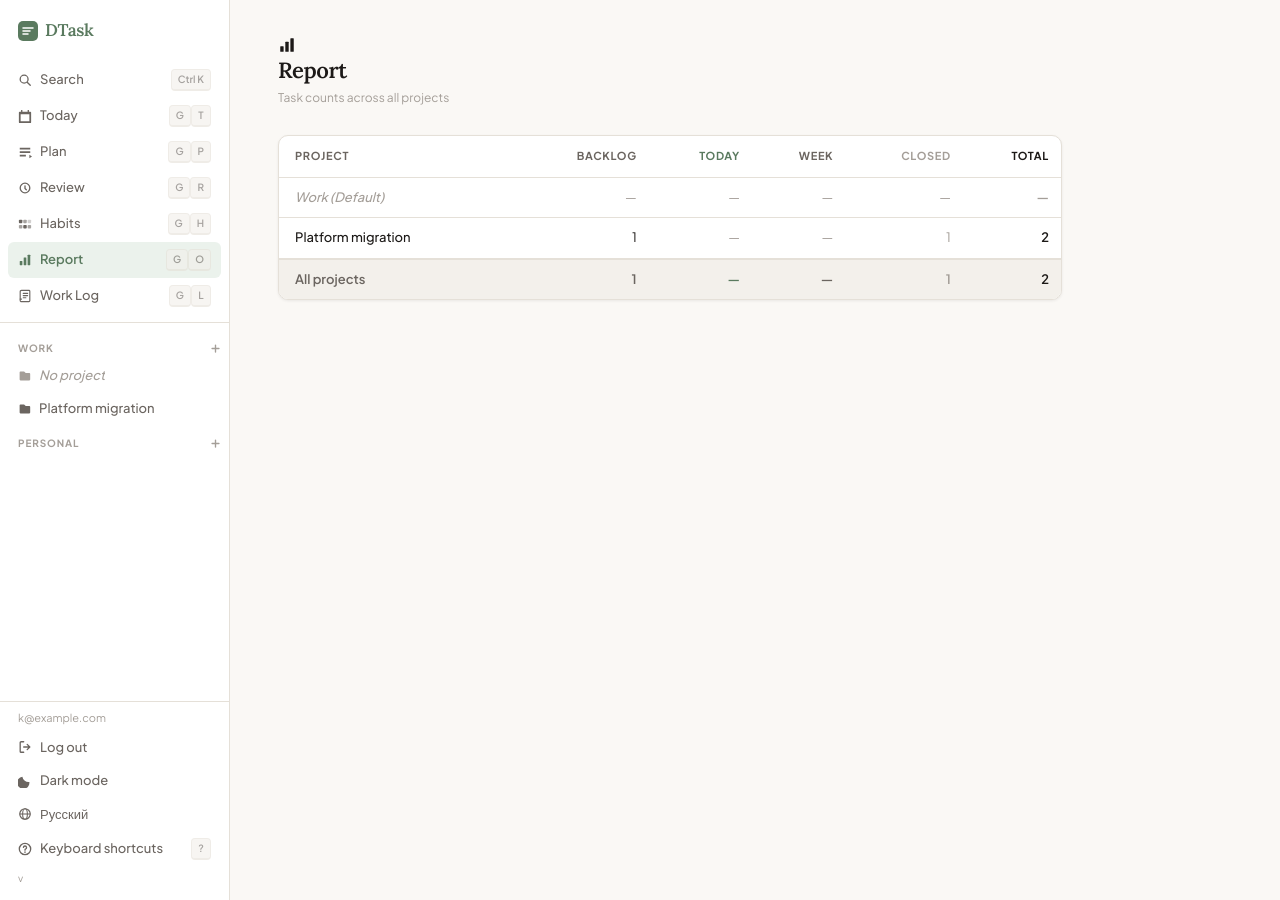
Test: CommandPalette › routes an ambiguous create through Today rather than guessing a project
The width and height of the screenshot is (1280, 900).
Type keys "{Control>}k{/Control}"
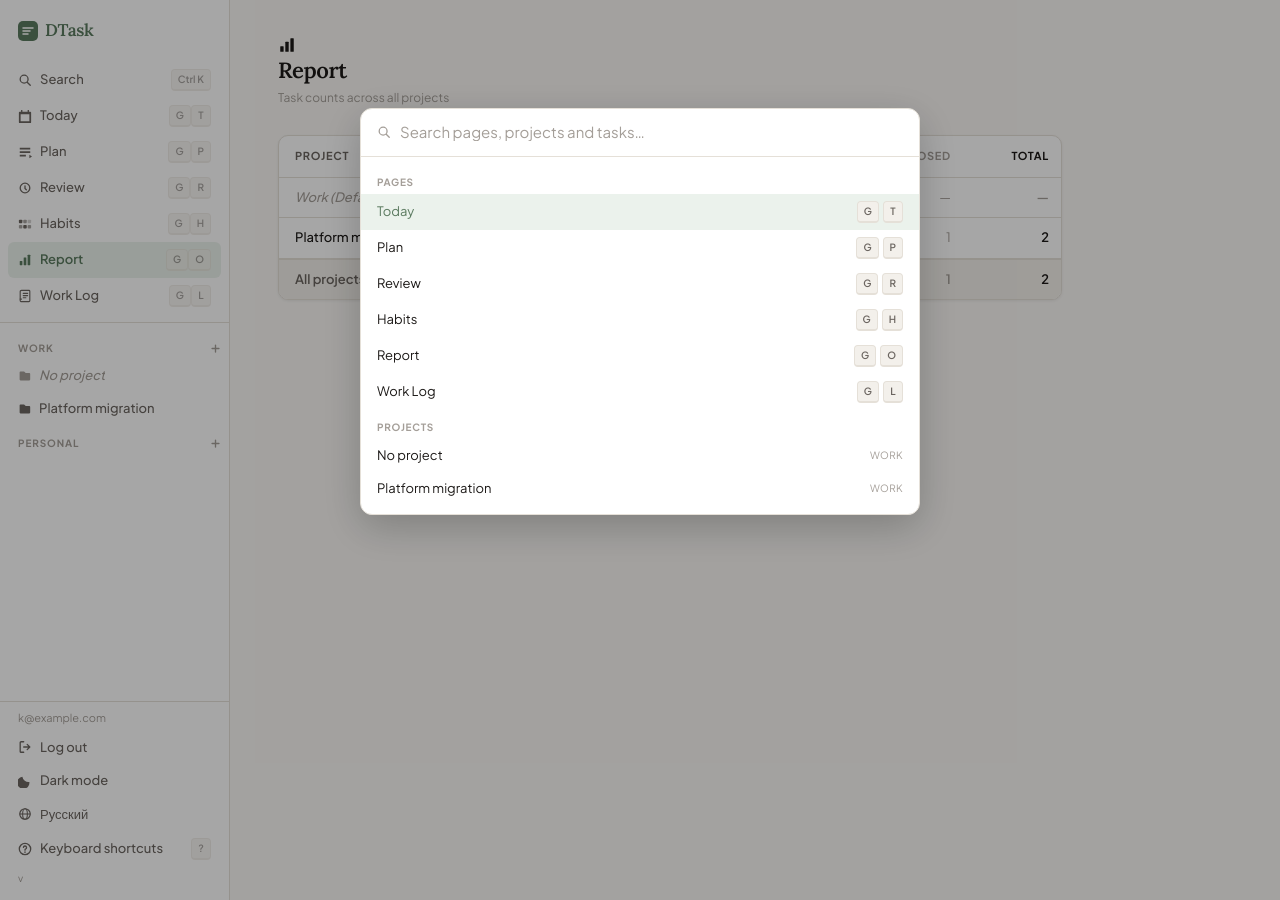
Type "Something unfiled" into the dropdown.
click(652, 132); type("Something unfiled")  # box 400,121 -> 903,144
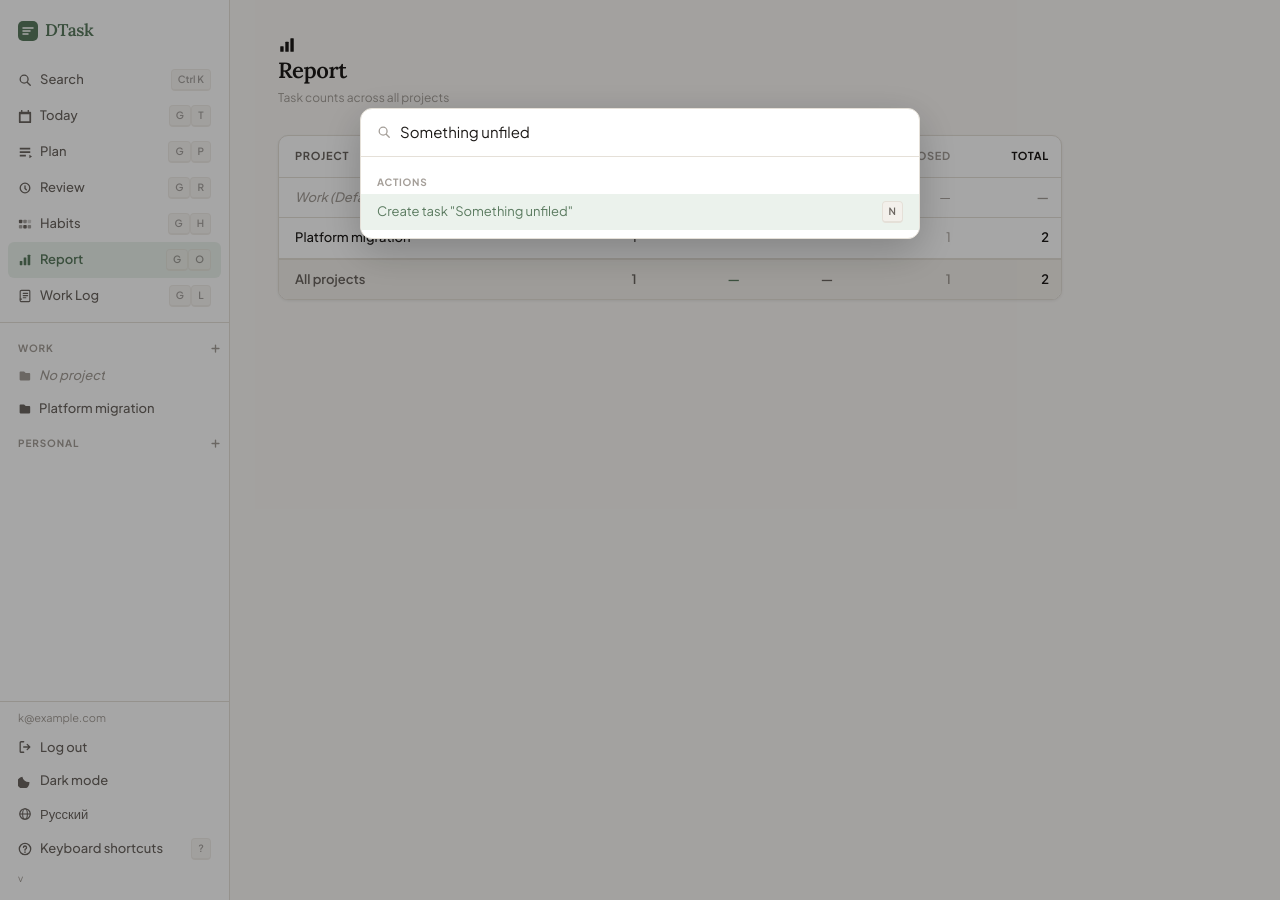
Click the text "Create task \"Something unfiled\"".
click(475, 211)  # box 377,203 -> 573,219
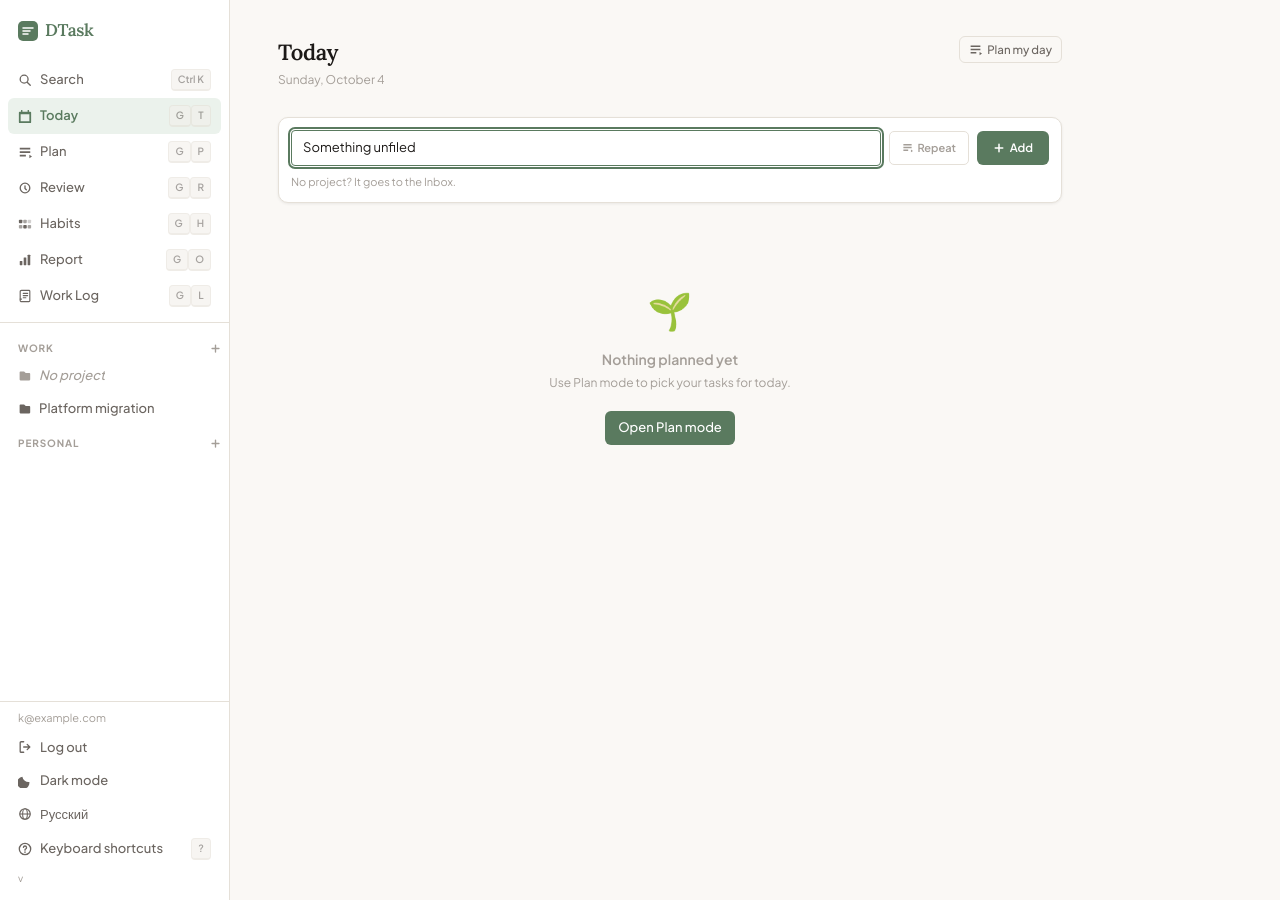
Result: the field with placeholder "Quick add task…" holds "Something unfiled" at 291,130 -> 882,166
